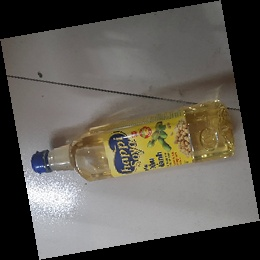Happy Soya: (31, 97, 236, 182)
